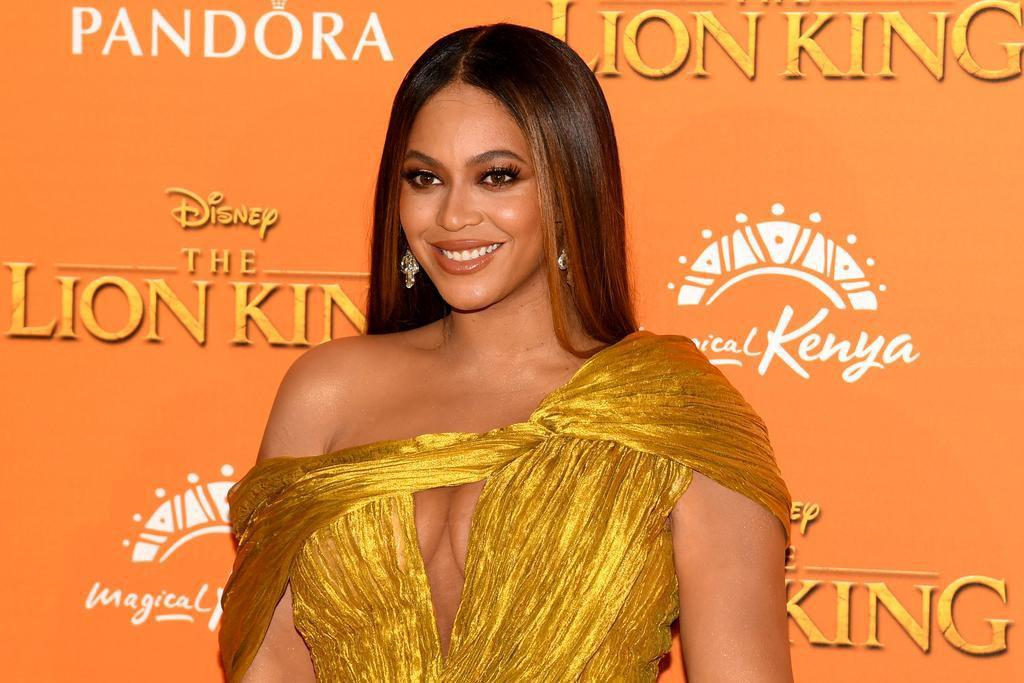Sober: (405, 106, 541, 307)
